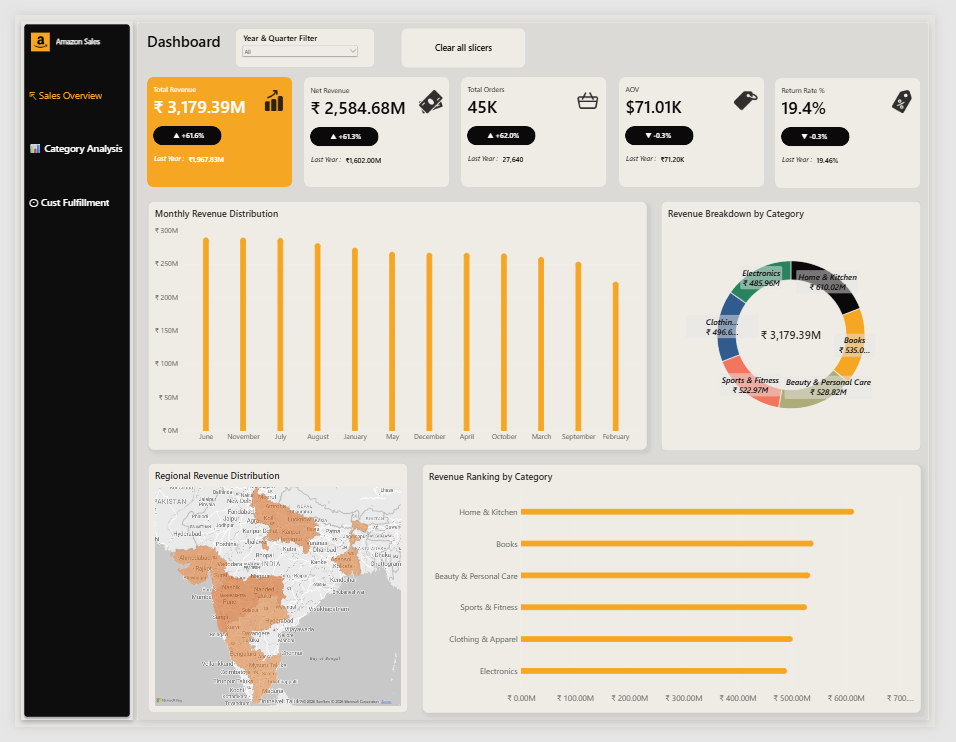

This screenshot's page, from the dashboard's own definition file:
{"tool":"powerbi","page":{"name":"⇱ Sales Overview","canvas":[2300,1780],"ordinal":0},"visuals":[{"type":"shape","box":[15,15,280,1747.5],"z":0},{"type":"shape","box":[724,155.4,363.3,275.3],"z":0,"group":"g2"},{"type":"shape","box":[1510.1,155.4,363.3,275],"z":0,"group":"g9"},{"type":"group","id":"g1","title":"Group 2","box":[330.9,155.5,363.3,275],"z":0,"group":"g16"},{"type":"shape","box":[330.9,155.5,363.3,275],"z":0,"group":"g1"},{"type":"shape","box":[1117.1,156.2,363.3,275],"z":0,"group":"g3"},{"type":"shape","box":[1901.9,157,363.3,275],"z":0,"group":"g15"},{"type":"shape","box":[1525.5,275.7,171.7,48.3],"z":0,"group":"g4"},{"type":"shape","box":[346.3,275.8,171.7,48.3],"z":0,"group":"g5"},{"type":"shape","box":[1132.5,276.5,171.7,48.3],"z":0,"group":"g6"},{"type":"shape","box":[1917.3,277.3,171.7,48.3],"z":0,"group":"g7"},{"type":"shape","box":[739.4,279,171.7,48.3],"z":0,"group":"g8"},{"type":"shape","box":[1526.4,341.4,163,37],"z":0,"group":"g10"},{"type":"shape","box":[347.2,341.5,163,37],"z":0,"group":"g11"},{"type":"shape","box":[1133.4,342.2,163,37],"z":0,"group":"g12"},{"type":"shape","box":[1918.2,343,163,37],"z":0,"group":"g13"},{"type":"shape","box":[740.3,344.7,163,37],"z":0,"group":"g14"},{"type":"image","box":[40,40,46.7,55],"z":1000},{"type":"group","id":"g2","title":"Group 2","box":[724,155.4,363.3,275.3],"z":1000,"group":"g16"},{"type":"cardVisual","fields":{"Data":["Key_Measures.AOV"]},"box":[1510.1,155.4,363.3,120],"z":1000,"group":"g9"},{"type":"cardVisual","fields":{"Data":["Key_Measures.Total Revenue"]},"box":[330.9,155.5,363.3,120],"z":1000,"group":"g1"},{"type":"cardVisual","fields":{"Data":["Key_Measures.Total Orders"]},"box":[1117.1,156.2,363.3,120],"z":1000,"group":"g3"},{"type":"cardVisual","fields":{"Data":["Key_Measures.Return Rate %"]},"box":[1901.9,157,363.3,120],"z":1000,"group":"g15"},{"type":"cardVisual","fields":{"Data":["Key_Measures.Net Revenue"]},"box":[724,158.7,363.3,120],"z":1000,"group":"g2"},{"type":"cardVisual","fields":{"Data":["Key_Measures.AOV YoY % Label"]},"box":[1559.3,274.5,138.3,48.3],"z":1000,"group":"g4"},{"type":"cardVisual","fields":{"Data":["Key_Measures.Sales YoY % Label"]},"box":[380.1,274.6,138.3,48.3],"z":1000,"group":"g5"},{"type":"cardVisual","fields":{"Data":["Key_Measures.Orders YoY % Label"]},"box":[1166.3,275.3,138.3,48.3],"z":1000,"group":"g6"},{"type":"cardVisual","fields":{"Data":["Key_Measures.Return Rate YoY % Label"]},"box":[1951.1,276.1,138.3,48.3],"z":1000,"group":"g7"},{"type":"cardVisual","fields":{"Data":["Key_Measures.Net Revenue YoY % Label"]},"box":[773.2,277.8,138.3,48.3],"z":1000,"group":"g8"},{"type":"cardVisual","fields":{"Data":["Key_Measures.AOV PY Clean"]},"box":[1597.2,335.4,216.7,48.3],"z":1000,"group":"g10"},{"type":"cardVisual","fields":{"Data":["Key_Measures.Last Year Label"]},"box":[418,335.5,216.7,48.3],"z":1000,"group":"g11"},{"type":"cardVisual","fields":{"Data":["Key_Measures.Orders PY Clean"]},"box":[1204.2,336.2,216.7,48.3],"z":1000,"group":"g12"},{"type":"cardVisual","fields":{"Data":["Key_Measures.Return Rate PY Clean"]},"box":[1989,337,216.7,48.3],"z":1000,"group":"g13"},{"type":"cardVisual","fields":{"Data":["Key_Measures.Net Revenue PY Clean"]},"box":[811.1,338.7,216.7,48.3],"z":1000,"group":"g14"},{"type":"textbox","box":[101.4,52.8,180,51.7],"z":2000},{"type":"group","id":"g3","title":"Group 2","box":[1117.1,156.2,363.3,275],"z":2000,"group":"g16"},{"type":"group","id":"g4","title":"YOY_Label","box":[1525.5,274.5,172.1,49.6],"z":2000,"group":"g9"},{"type":"group","id":"g5","title":"YOY_Label","box":[346.3,274.6,172.1,49.6],"z":2000,"group":"g1"},{"type":"group","id":"g6","title":"YOY_Label","box":[1132.5,275.3,172.1,49.6],"z":2000,"group":"g3"},{"type":"group","id":"g7","title":"YOY_Label","box":[1917.3,276.1,172.1,49.6],"z":2000,"group":"g15"},{"type":"group","id":"g8","title":"YOY_Label","box":[739.4,277.8,172.1,49.6],"z":2000,"group":"g2"},{"type":"shape","box":[305,17.5,1980,1745],"z":3000},{"type":"group","id":"g9","title":"Group 2","box":[1510.1,155.4,362,276],"z":3000,"group":"g16"},{"type":"group","id":"g10","title":"LY_label","box":[1526.4,335.4,287.4,48.3],"z":3000,"group":"g9"},{"type":"group","id":"g11","title":"LY_label","box":[347.2,335.5,287.4,48.3],"z":3000,"group":"g1"},{"type":"group","id":"g12","title":"LY_label","box":[1133.4,336.2,287.4,48.3],"z":3000,"group":"g3"},{"type":"group","id":"g13","title":"LY_label","box":[1918.2,337,287.4,48.3],"z":3000,"group":"g15"},{"type":"group","id":"g14","title":"LY_label","box":[740.3,338.7,287.4,48.3],"z":3000,"group":"g2"},{"type":"textbox","box":[330,40,376.7,61.7],"z":4000},{"type":"group","id":"g15","title":"Group 2","box":[1901.9,157,362,276],"z":4000,"group":"g16"},{"type":"group","id":"g16","title":"KPI_Cards","box":[330.9,155.4,1933,277.6],"z":5000},{"type":"columnChart","title":"Monthly Revenue Distribution","fields":{"Category":["dim_date.order_month"],"Y":["Key_Measures.Total Revenue"]},"box":[332.5,465,1247.5,622.5],"z":6000},{"type":"group","id":"g17","title":"Year_Filter","box":[550,32.5,350,307.5],"z":7000},{"type":"shape","box":[550,32.5,350,100],"z":8000,"group":"g17"},{"type":"donutChart","title":"Revenue Breakdown by Category","fields":{"Category":["dim_product.category"],"Y":["Key_Measures.Total Revenue"]},"box":[1615,465,650,625],"z":8000},{"type":"slicer","fields":{"Values":["dim_date.order_year","dim_date.quarter_of_year"]},"box":[562.5,41.7,300,300],"z":8500,"group":"g17"},{"type":"clusteredBarChart","title":"Revenue Ranking by Category","fields":{"Category":["dim_product.category"],"Y":["Key_Measures.Total Revenue"]},"box":[1017.5,1122.5,1247.5,622.5],"z":9000},{"type":"filledMap","title":"Regional Revenue Distribution","fields":{"Category":["dim_customers.customer_state"]},"box":[332.5,1120,650,625],"z":10000},{"type":"actionButton","box":[965,33,312,100],"z":11000},{"type":"pageNavigator","box":[22.5,137.5,340,395],"z":12000}]}

Visuals, with their boxes on the page's 2300x1780 design canvas (x1, y1, x2, y2). These are canvas units, not pixel positions in the 956x742 screenshot, which may show the page scaled, cropped or inside an application window:
shape: (15, 15, 295, 1762)
shape: (724, 155, 1087, 431)
shape: (1510, 155, 1873, 430)
"Group 2" group: (331, 156, 694, 430)
shape: (331, 156, 694, 430)
shape: (1117, 156, 1480, 431)
shape: (1902, 157, 2265, 432)
shape: (1526, 276, 1697, 324)
shape: (346, 276, 518, 324)
shape: (1132, 276, 1304, 325)
shape: (1917, 277, 2089, 326)
shape: (739, 279, 911, 327)
shape: (1526, 341, 1689, 378)
shape: (347, 342, 510, 378)
shape: (1133, 342, 1296, 379)
shape: (1918, 343, 2081, 380)
shape: (740, 345, 903, 382)
image: (40, 40, 87, 95)
"Group 2" group: (724, 155, 1087, 431)
cardVisual - Key_Measures.AOV: (1510, 155, 1873, 275)
cardVisual - Key_Measures.Total Revenue: (331, 156, 694, 276)
cardVisual - Key_Measures.Total Orders: (1117, 156, 1480, 276)
cardVisual - Key_Measures.Return Rate %: (1902, 157, 2265, 277)
cardVisual - Key_Measures.Net Revenue: (724, 159, 1087, 279)
cardVisual - Key_Measures.AOV YoY % Label: (1559, 274, 1698, 323)
cardVisual - Key_Measures.Sales YoY % Label: (380, 275, 518, 323)
cardVisual - Key_Measures.Orders YoY % Label: (1166, 275, 1305, 324)
cardVisual - Key_Measures.Return Rate YoY % Label: (1951, 276, 2089, 324)
cardVisual - Key_Measures.Net Revenue YoY % Label: (773, 278, 912, 326)
cardVisual - Key_Measures.AOV PY Clean: (1597, 335, 1814, 384)
cardVisual - Key_Measures.Last Year Label: (418, 336, 635, 384)
cardVisual - Key_Measures.Orders PY Clean: (1204, 336, 1421, 384)
cardVisual - Key_Measures.Return Rate PY Clean: (1989, 337, 2206, 385)
cardVisual - Key_Measures.Net Revenue PY Clean: (811, 339, 1028, 387)
textbox: (101, 53, 281, 104)
"Group 2" group: (1117, 156, 1480, 431)
"YOY_Label" group: (1526, 274, 1698, 324)
"YOY_Label" group: (346, 275, 518, 324)
"YOY_Label" group: (1132, 275, 1305, 325)
"YOY_Label" group: (1917, 276, 2089, 326)
"YOY_Label" group: (739, 278, 912, 327)
shape: (305, 18, 2285, 1762)
"Group 2" group: (1510, 155, 1872, 431)
"LY_label" group: (1526, 335, 1814, 384)
"LY_label" group: (347, 336, 635, 384)
"LY_label" group: (1133, 336, 1421, 384)
"LY_label" group: (1918, 337, 2206, 385)
"LY_label" group: (740, 339, 1028, 387)
textbox: (330, 40, 707, 102)
"Group 2" group: (1902, 157, 2264, 433)
"KPI_Cards" group: (331, 155, 2264, 433)
"Monthly Revenue Distribution" columnChart: (332, 465, 1580, 1088)
"Year_Filter" group: (550, 32, 900, 340)
shape: (550, 32, 900, 132)
"Revenue Breakdown by Category" donutChart: (1615, 465, 2265, 1090)
slicer - dim_date.order_year x dim_date.quarter_of_year: (562, 42, 862, 342)
"Revenue Ranking by Category" clusteredBarChart: (1018, 1122, 2265, 1745)
"Regional Revenue Distribution" filledMap: (332, 1120, 982, 1745)
actionButton: (965, 33, 1277, 133)
pageNavigator: (22, 138, 362, 532)
